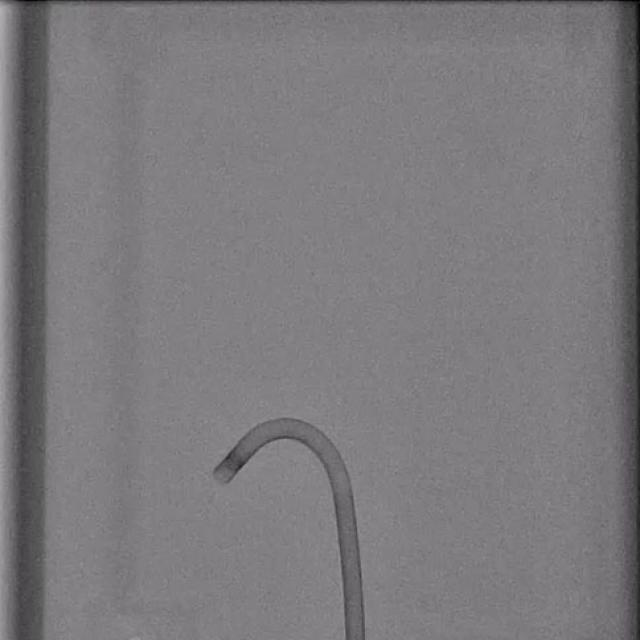bend: (331, 480, 353, 492)
entry: (344, 634, 365, 640)
marker: (224, 451, 246, 471)
tip: (212, 471, 227, 485)
